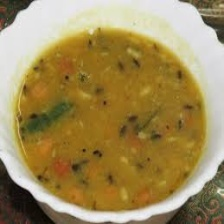dal: (14, 27, 207, 212)
